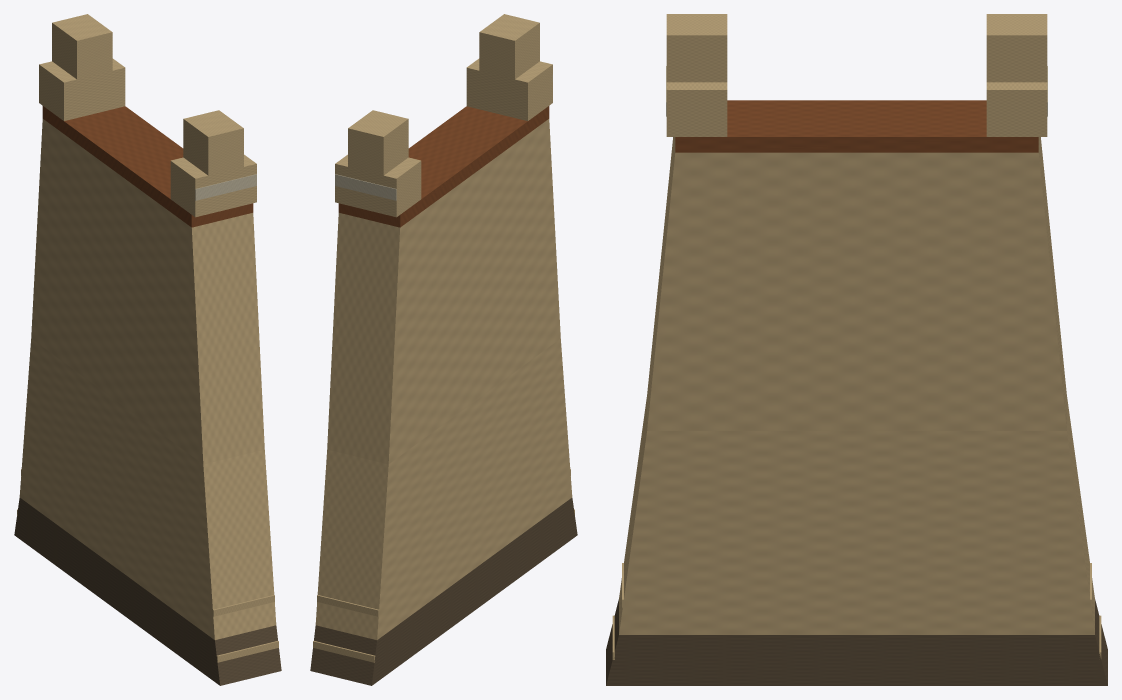
The model's file is Berber_Wall_Age3_gap_1m.fbx.
The picture shows the model from 3 angles, left to right: view 1: azimuth 30°, elevation 25°; view 2: azimuth 150°, elevation 25°; view 3: azimuth 270°, elevation 25°; orthographic projection. The views are drawn at different scales.
Visible parts, largest first — view 1: gap_1m_rammed_curtain_upper, gap_1m_rammed_curtain_lower, gap_1m_battered_stone_foot, gap_1m_walk_deck, gap_1m_parapet.001, gap_1m_merlon, gap_1m_merlon.001, gap_1m_parapet, gap_1m_owner_painted_band, gap_1m_lime_bond_course, gap_1m_lime_bond_course.002; view 2: gap_1m_rammed_curtain_upper, gap_1m_rammed_curtain_lower, gap_1m_battered_stone_foot, gap_1m_walk_deck, gap_1m_parapet, gap_1m_merlon, gap_1m_parapet.001, gap_1m_merlon.001, gap_1m_merlon_lime_cap.001, gap_1m_owner_painted_band.001, gap_1m_lime_bond_course.001, gap_1m_lime_bond_course.003; view 3: gap_1m_rammed_curtain_upper, gap_1m_rammed_curtain_lower, gap_1m_battered_stone_foot, gap_1m_walk_deck, gap_1m_merlon.001, gap_1m_merlon, gap_1m_parapet, gap_1m_parapet.001.
Part boxes in pixels (x1,y1,x2,y2): gap_1m_rammed_curtain_upper: (31, 119, 264, 464); gap_1m_rammed_curtain_lower: (19, 338, 276, 639); gap_1m_battered_stone_foot: (14, 498, 281, 685); gap_1m_walk_deck: (42, 106, 253, 227); gap_1m_parapet.001: (39, 58, 125, 120); gap_1m_merlon: (183, 110, 243, 175); gap_1m_merlon.001: (52, 14, 112, 79); gap_1m_parapet: (170, 154, 256, 217); gap_1m_owner_painted_band: (195, 174, 256, 200); gap_1m_lime_bond_course: (216, 641, 278, 662); gap_1m_lime_bond_course.002: (212, 595, 274, 616); gap_1m_rammed_curtain_upper: (327, 119, 560, 464); gap_1m_rammed_curtain_lower: (315, 338, 572, 639); gap_1m_battered_stone_foot: (310, 498, 577, 685); gap_1m_walk_deck: (338, 106, 549, 227); gap_1m_parapet: (466, 58, 552, 120); gap_1m_merlon: (479, 14, 539, 79); gap_1m_parapet.001: (335, 154, 421, 217); gap_1m_merlon.001: (348, 110, 408, 175); gap_1m_merlon_lime_cap.001: (348, 110, 407, 139); gap_1m_owner_painted_band.001: (335, 174, 396, 200); gap_1m_lime_bond_course.001: (313, 641, 375, 662); gap_1m_lime_bond_course.003: (317, 595, 378, 616); gap_1m_rammed_curtain_upper: (647, 137, 1066, 430); gap_1m_rammed_curtain_lower: (619, 397, 1094, 634); gap_1m_battered_stone_foot: (606, 599, 1107, 685); gap_1m_walk_deck: (675, 100, 1038, 152); gap_1m_merlon.001: (986, 14, 1047, 82); gap_1m_merlon: (666, 14, 727, 82); gap_1m_parapet: (666, 82, 727, 136); gap_1m_parapet.001: (986, 82, 1047, 136).
Size of the model in its own units: 100 by 820 by 580.
Materials: 4 (4 with a texture image).
